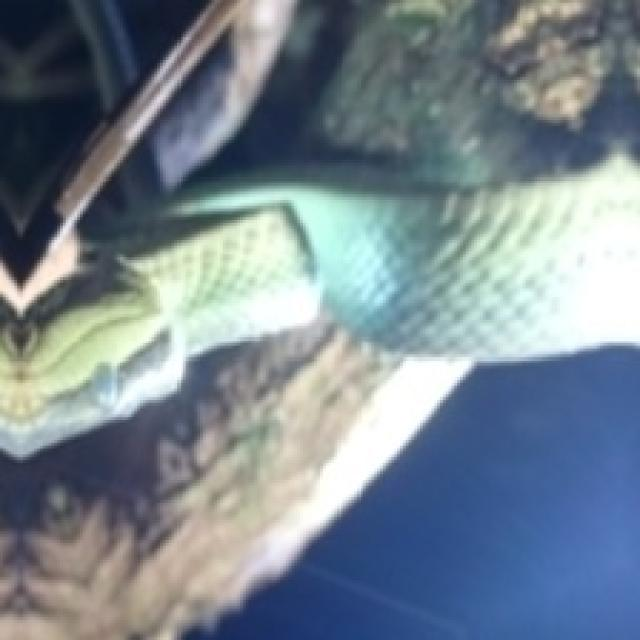red-tailed green ratsnake: (0, 154, 640, 457)
